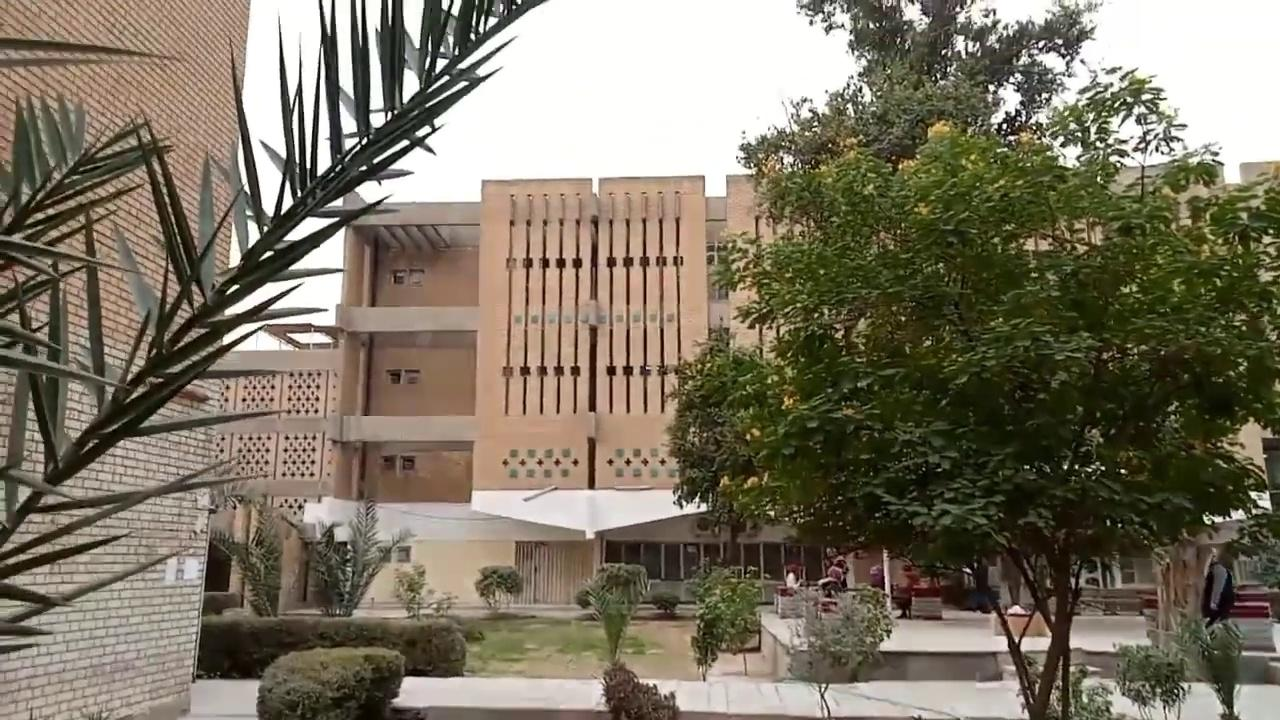person: (1200, 553, 1235, 628), (892, 563, 919, 619), (971, 555, 994, 613), (821, 556, 847, 597), (869, 563, 884, 591), (784, 567, 799, 592)
tree: (663, 61, 1279, 717), (0, 0, 546, 660), (735, 0, 1106, 180), (1112, 614, 1245, 718), (304, 496, 416, 617), (254, 643, 406, 718), (791, 581, 895, 683), (688, 561, 769, 681), (207, 492, 284, 617), (575, 560, 650, 665), (392, 562, 457, 620), (473, 563, 521, 613), (649, 590, 680, 617)
